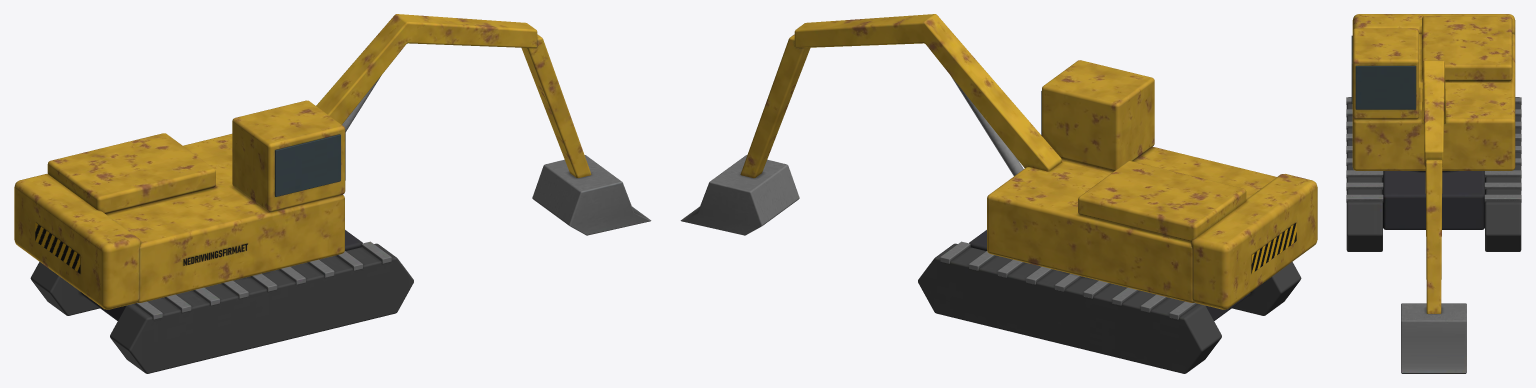
File: gravko.glb
3 views of the same model, side by side, from view 1: azimuth 30°, elevation 25°; view 2: azimuth 150°, elevation 25°; view 3: azimuth 270°, elevation 25° (orthographic). The views are drawn at different scales.
Parts seen in each view (by area): view 1: gravko, striber; view 2: gravko, striber; view 3: gravko.
Boxes of the visible parts, left/top/right/bottom form: gravko: left=14, top=14, right=651, bottom=373; striber: left=35, top=222, right=80, bottom=273; gravko: left=680, top=14, right=1317, bottom=373; striber: left=1251, top=222, right=1296, bottom=273; gravko: left=1346, top=14, right=1521, bottom=373.
Size of the model in its own units: 9.65 by 3.94 by 2.92.
Materials: 3 (3 with a texture image).
